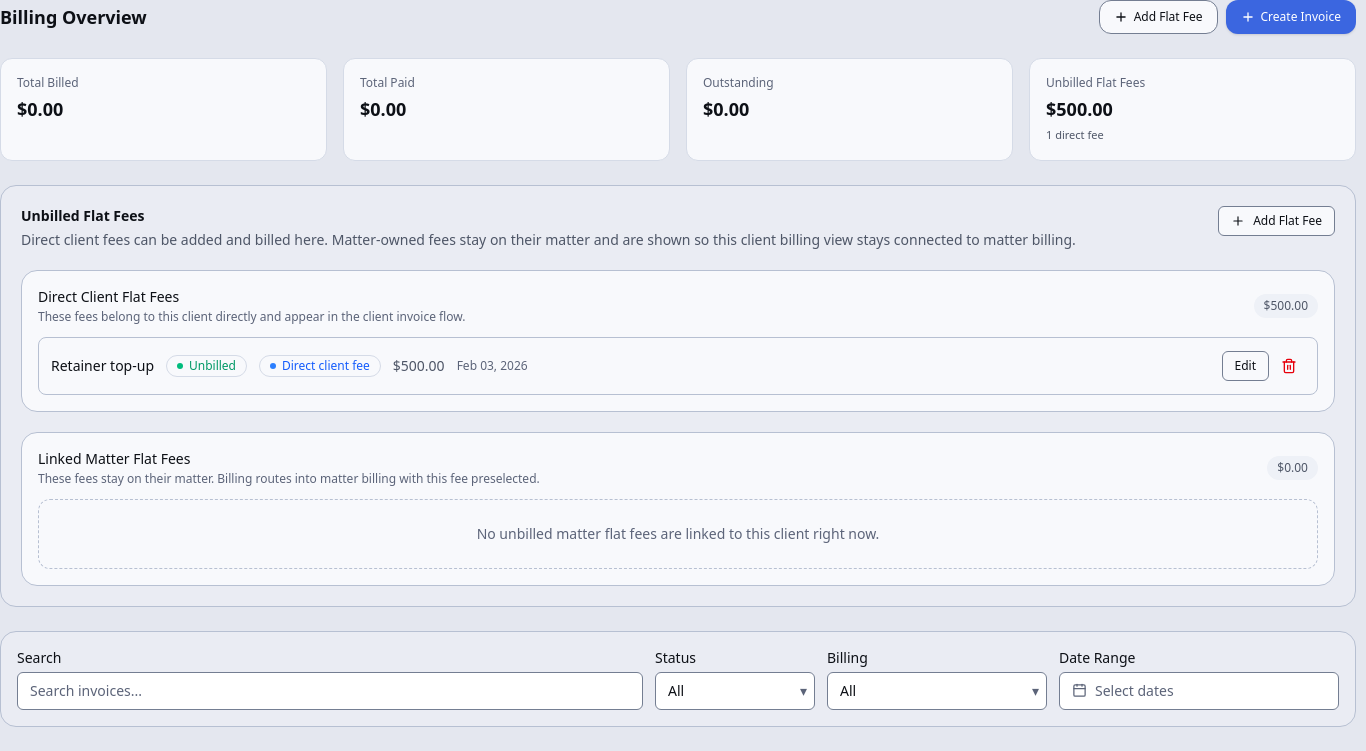
Scenario: a refused flat-fee delete › keeps the confirm open with the server's reason, and the fee stays listed
The image size is (1366, 751).
Click the button named "Remove flat fee" at x=1289, y=366, box [1273,350,1305,382]
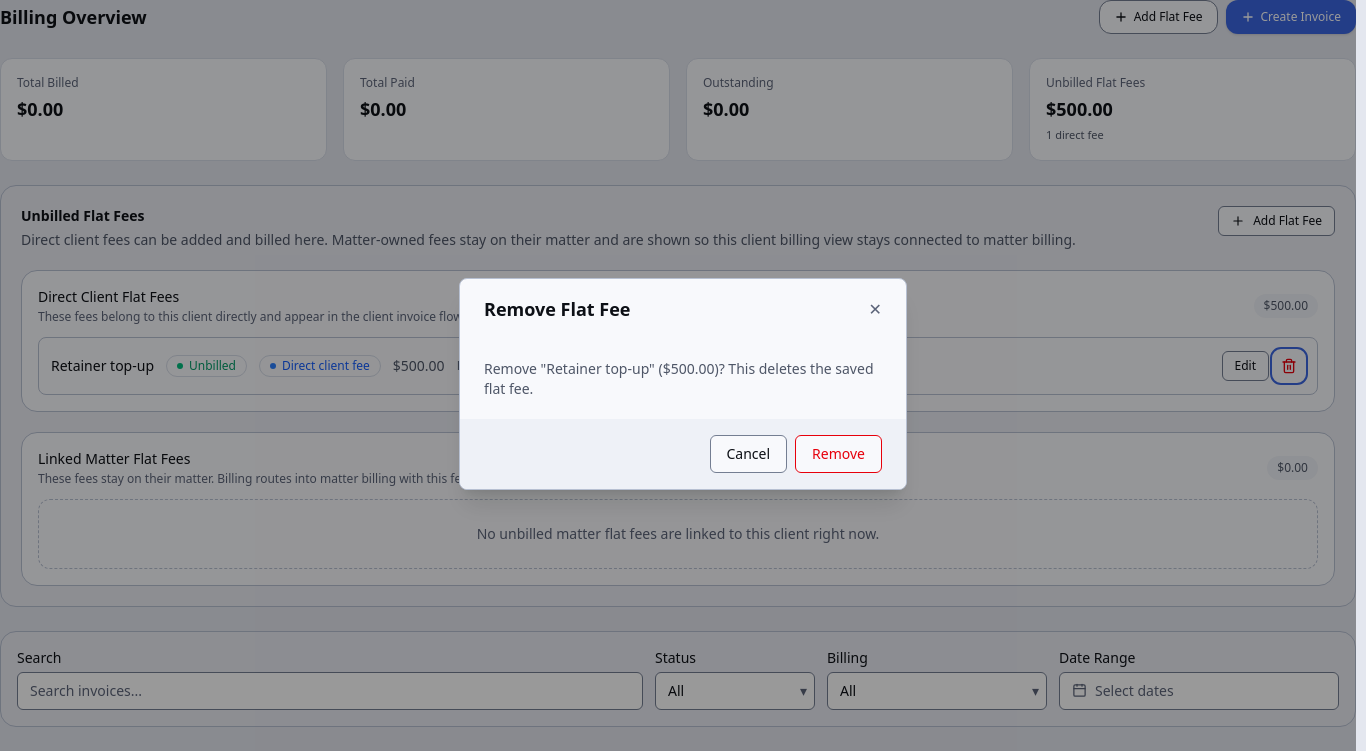
Click the button "Remove" at x=839, y=454, box [795,435,882,473]
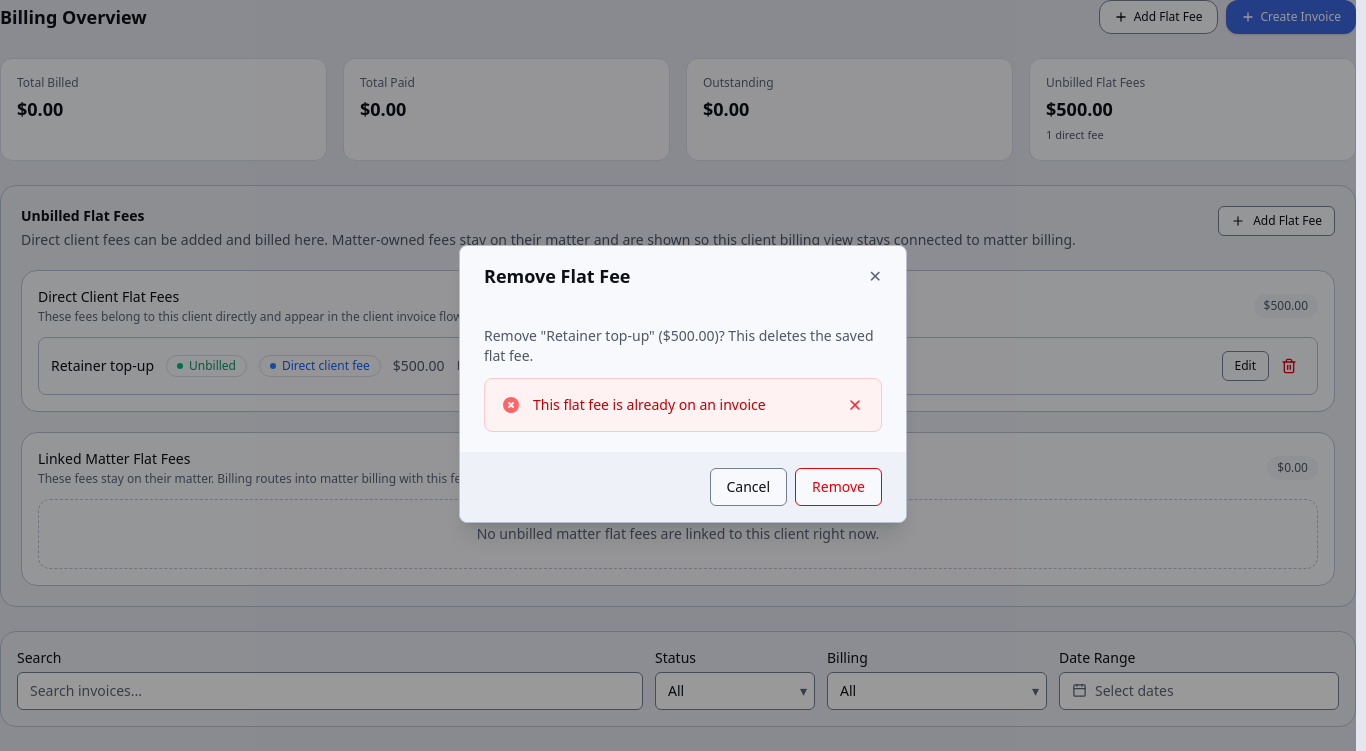
Expected: the text "Retainer top-up" is shown, [51,356,154,376]
Result: the text "This flat fee is already on an invoice" is shown at [533,395,766,414]
